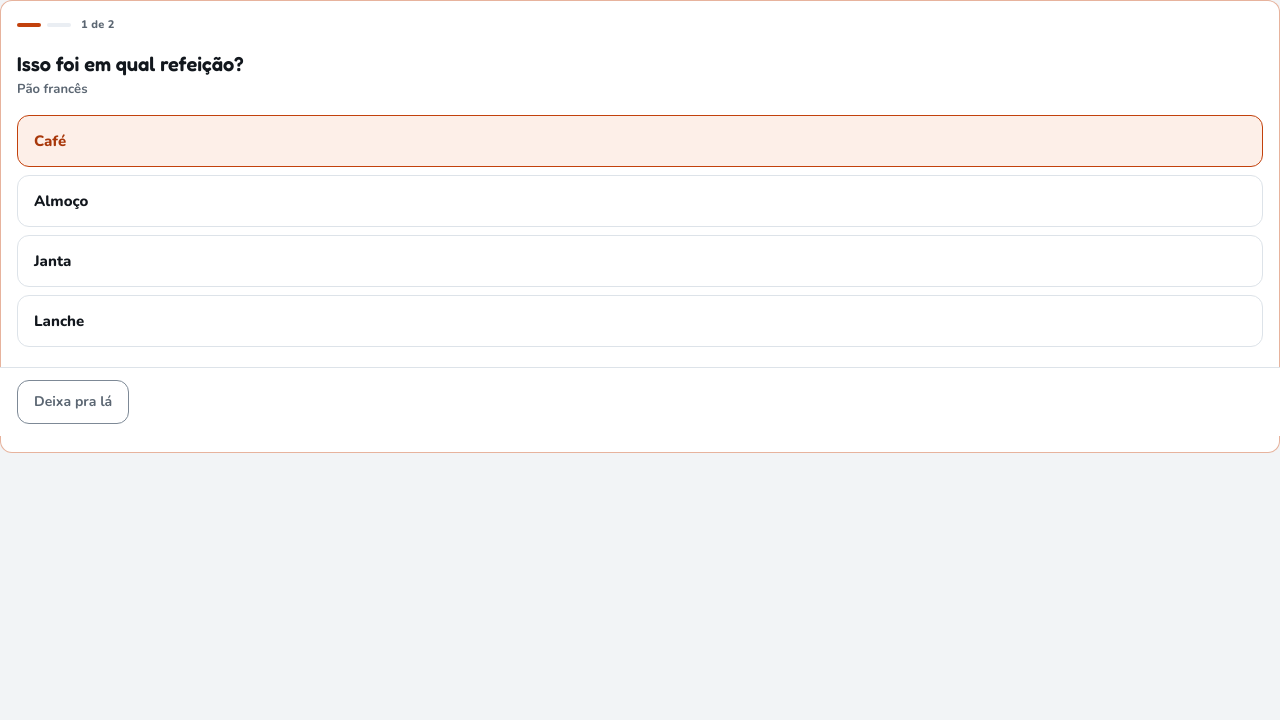
Test case: MealEditor › vai para a quantidade assim que a refeição é escolhida
The image size is (1280, 720).
Click the button "Almoço".
click(61, 201)  # box [17,175,1263,227]
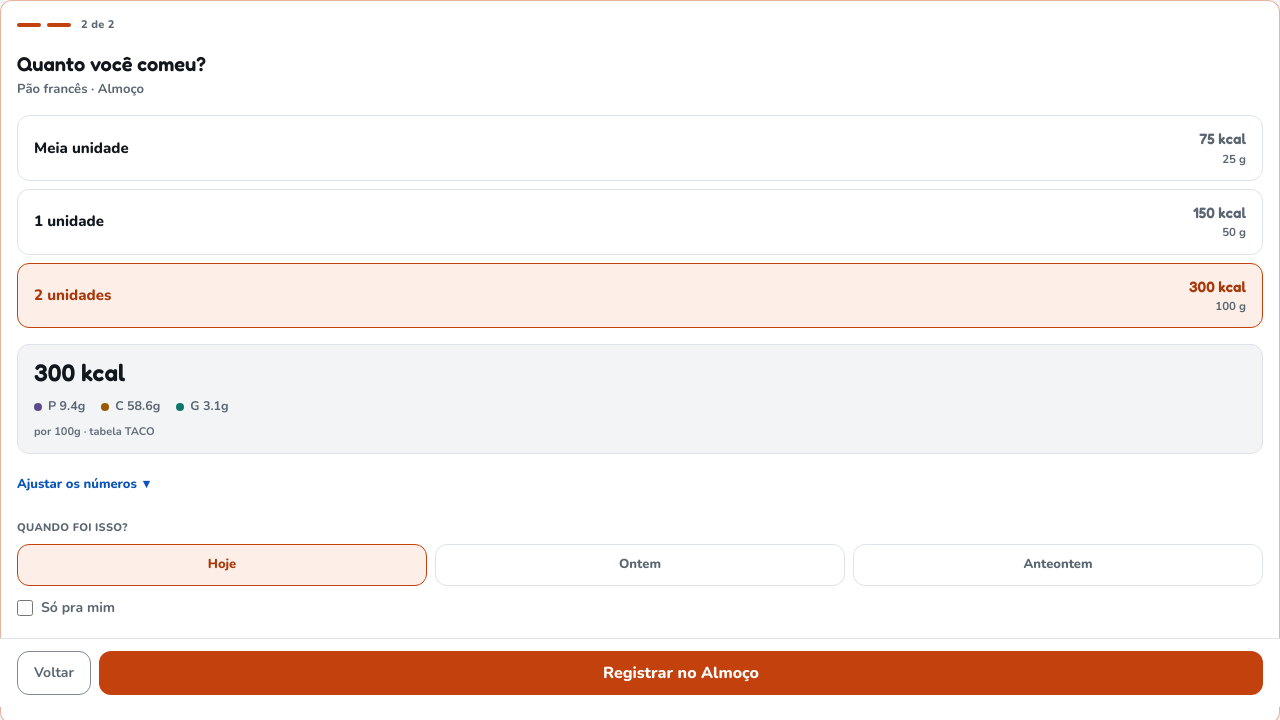
Expected: the heading "Quanto você comeu?" is shown, [17,52,206,76]
